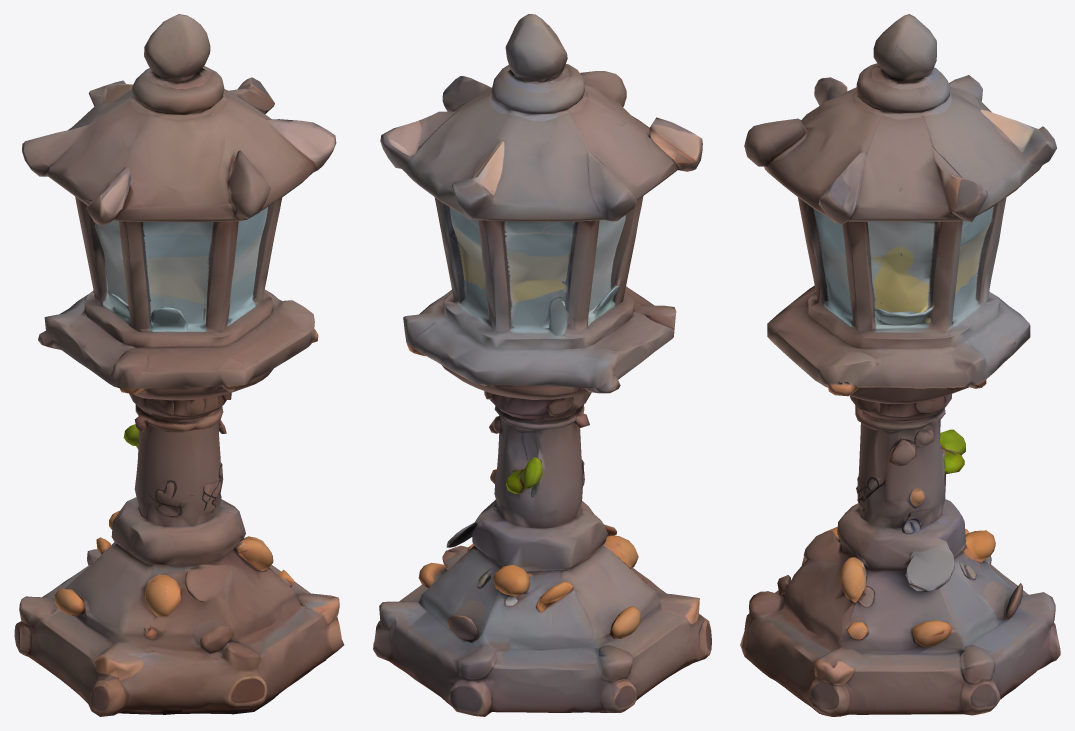
Rendered from lantern.glb.
3 views of the same model, side by side, from view 1: azimuth 30°, elevation 25°; view 2: azimuth 150°, elevation 25°; view 3: azimuth 270°, elevation 25° (orthographic).
Visible parts, largest first — view 1: tripo_node_858220e1-57ed-4194-9c69-6d4ca45ec78c; view 2: tripo_node_858220e1-57ed-4194-9c69-6d4ca45ec78c; view 3: tripo_node_858220e1-57ed-4194-9c69-6d4ca45ec78c.
Boxes of the visible parts, bbox=[...] form: tripo_node_858220e1-57ed-4194-9c69-6d4ca45ec78c: bbox=[14, 14, 344, 716]; tripo_node_858220e1-57ed-4194-9c69-6d4ca45ec78c: bbox=[373, 14, 711, 716]; tripo_node_858220e1-57ed-4194-9c69-6d4ca45ec78c: bbox=[740, 14, 1060, 716].
Bounding box in the file's own units: 0.188 × 0.45 × 0.2012.
1 material, 1 textured.
